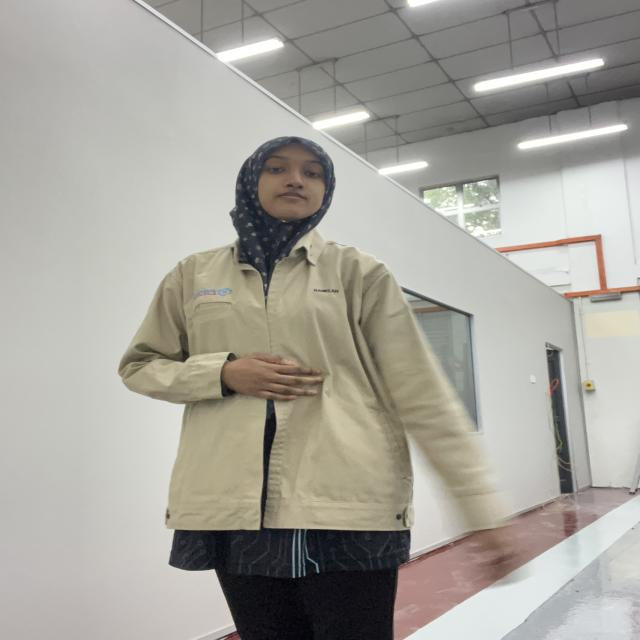person_with_labcoat: (119, 137, 520, 640)
